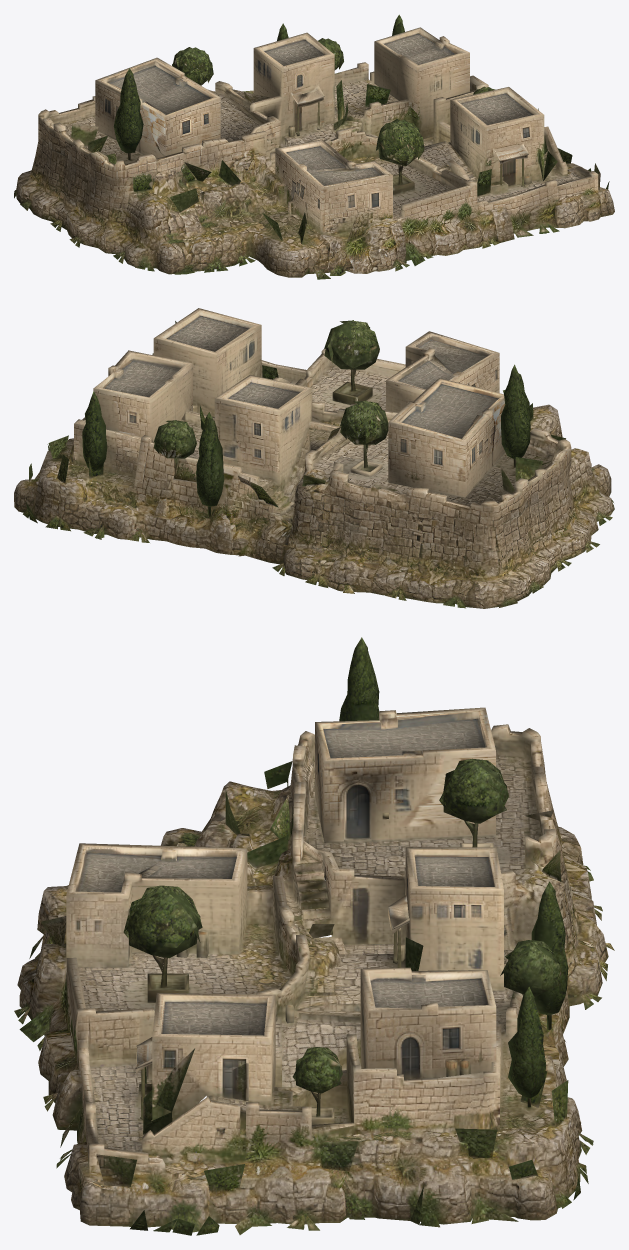
File: statecraft-safed-approved-textured-1e2b8e59.glb
3 renders of one model, top to bottom at view 1: azimuth 30°, elevation 25°; view 2: azimuth 150°, elevation 25°; view 3: azimuth 270°, elevation 25°, orthographic. The views are drawn at different scales.
Parts seen in each view (by area): view 1: tripo_node_0649cfd9-8058-4719-bc43-7b079de584fe; view 2: tripo_node_0649cfd9-8058-4719-bc43-7b079de584fe; view 3: tripo_node_0649cfd9-8058-4719-bc43-7b079de584fe.
Part boxes in pixels (x1=…): tripo_node_0649cfd9-8058-4719-bc43-7b079de584fe: x1=14, y1=14, x2=614, y2=279; tripo_node_0649cfd9-8058-4719-bc43-7b079de584fe: x1=14, y1=308, x2=614, y2=608; tripo_node_0649cfd9-8058-4719-bc43-7b079de584fe: x1=14, y1=637, x2=614, y2=1235.
Bounding box in the file's own units: 0.9995 × 0.3657 × 0.6909.
Materials: 1 (1 with a texture image).
